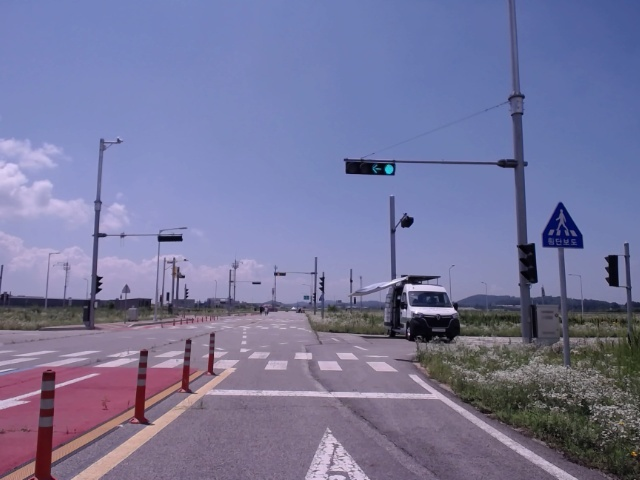all_green_4: (344, 156, 395, 176)
